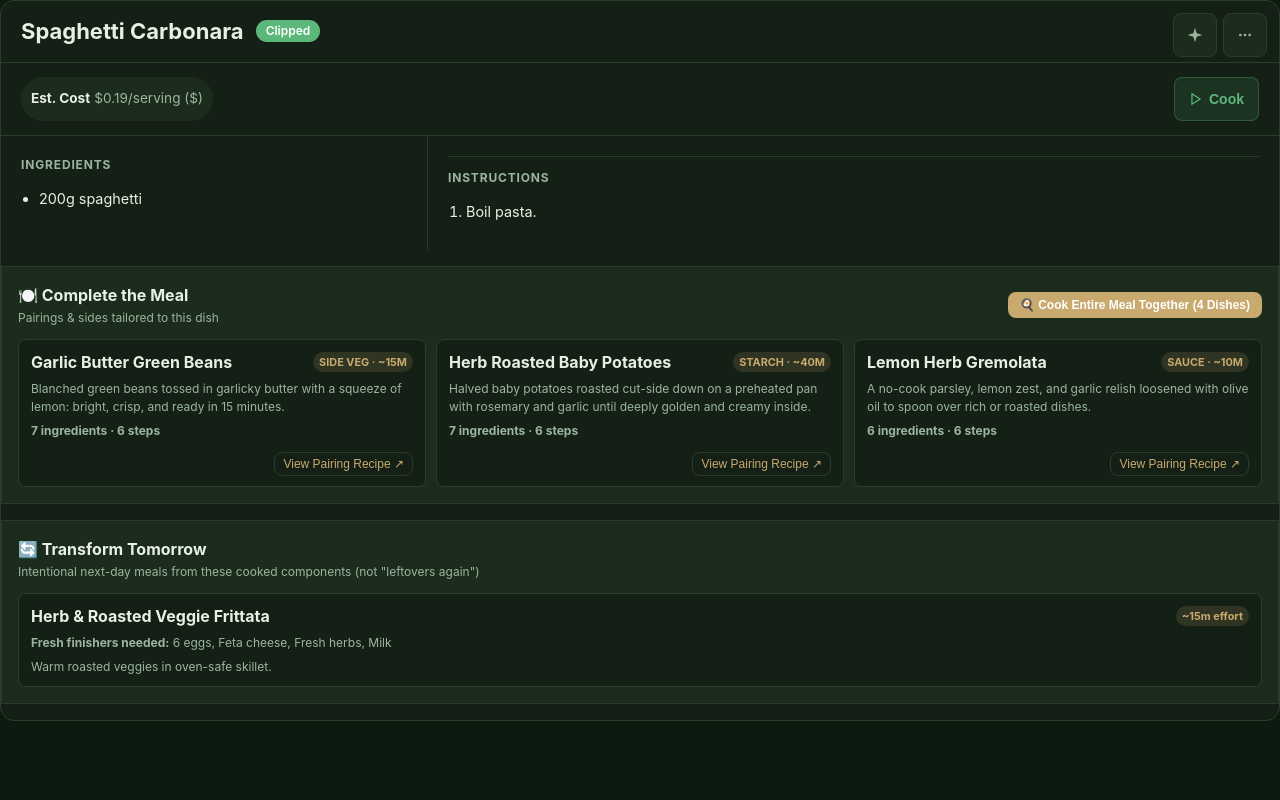
Test: RecipeCard — edit and notes actions › omits the count when there are no notes
The image size is (1280, 800).
Click the button named "More recipe options". click: (1245, 35)
box: x1=1223 y1=13 x2=1267 y2=57
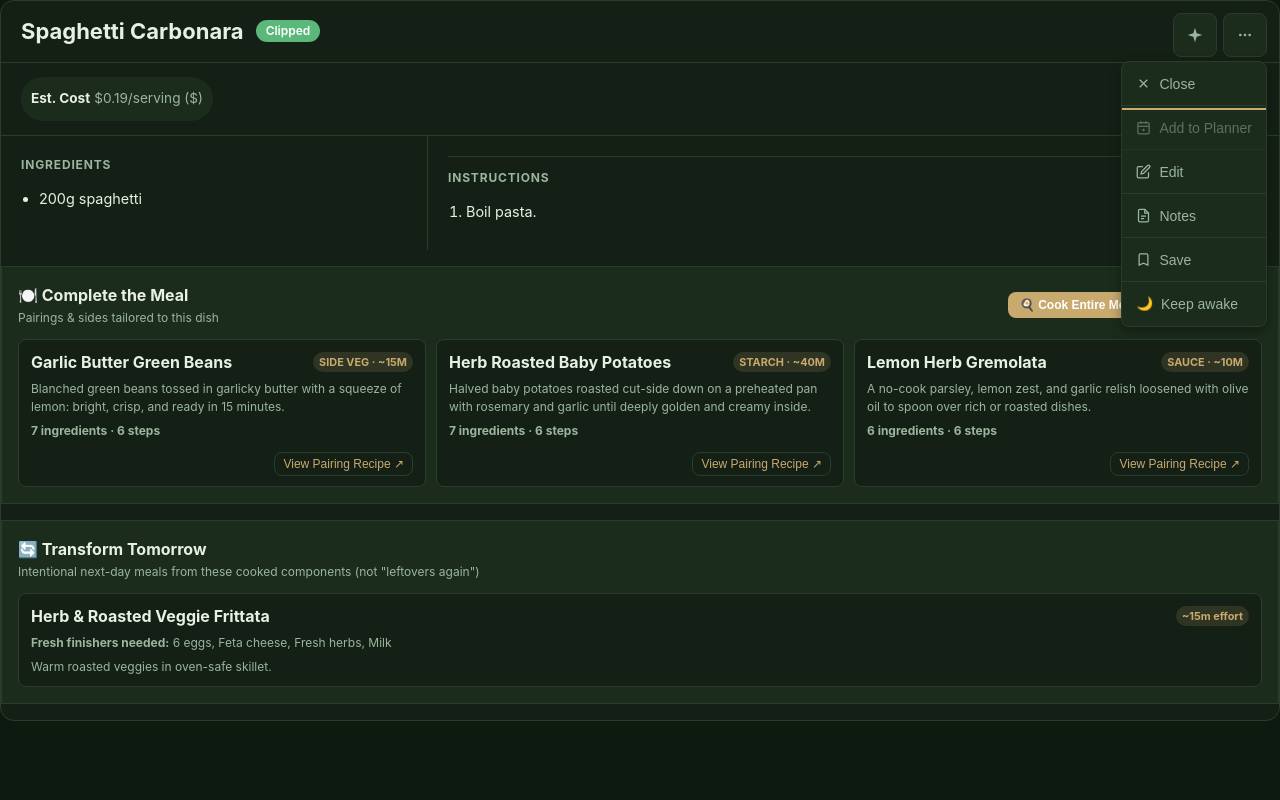
Expected: the menu item "Notes" is shown, x1=1122 y1=194 x2=1266 y2=238
